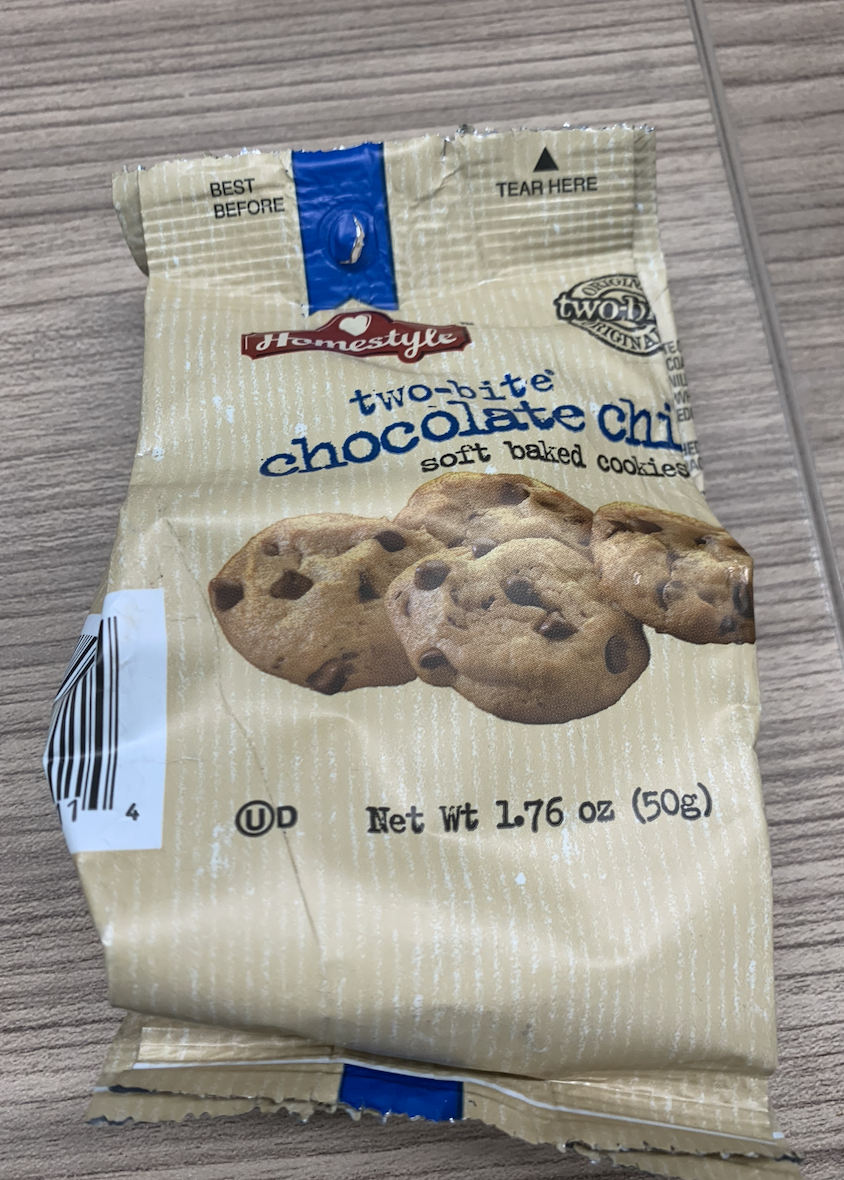cookies_50g: (197, 205, 732, 1060)
